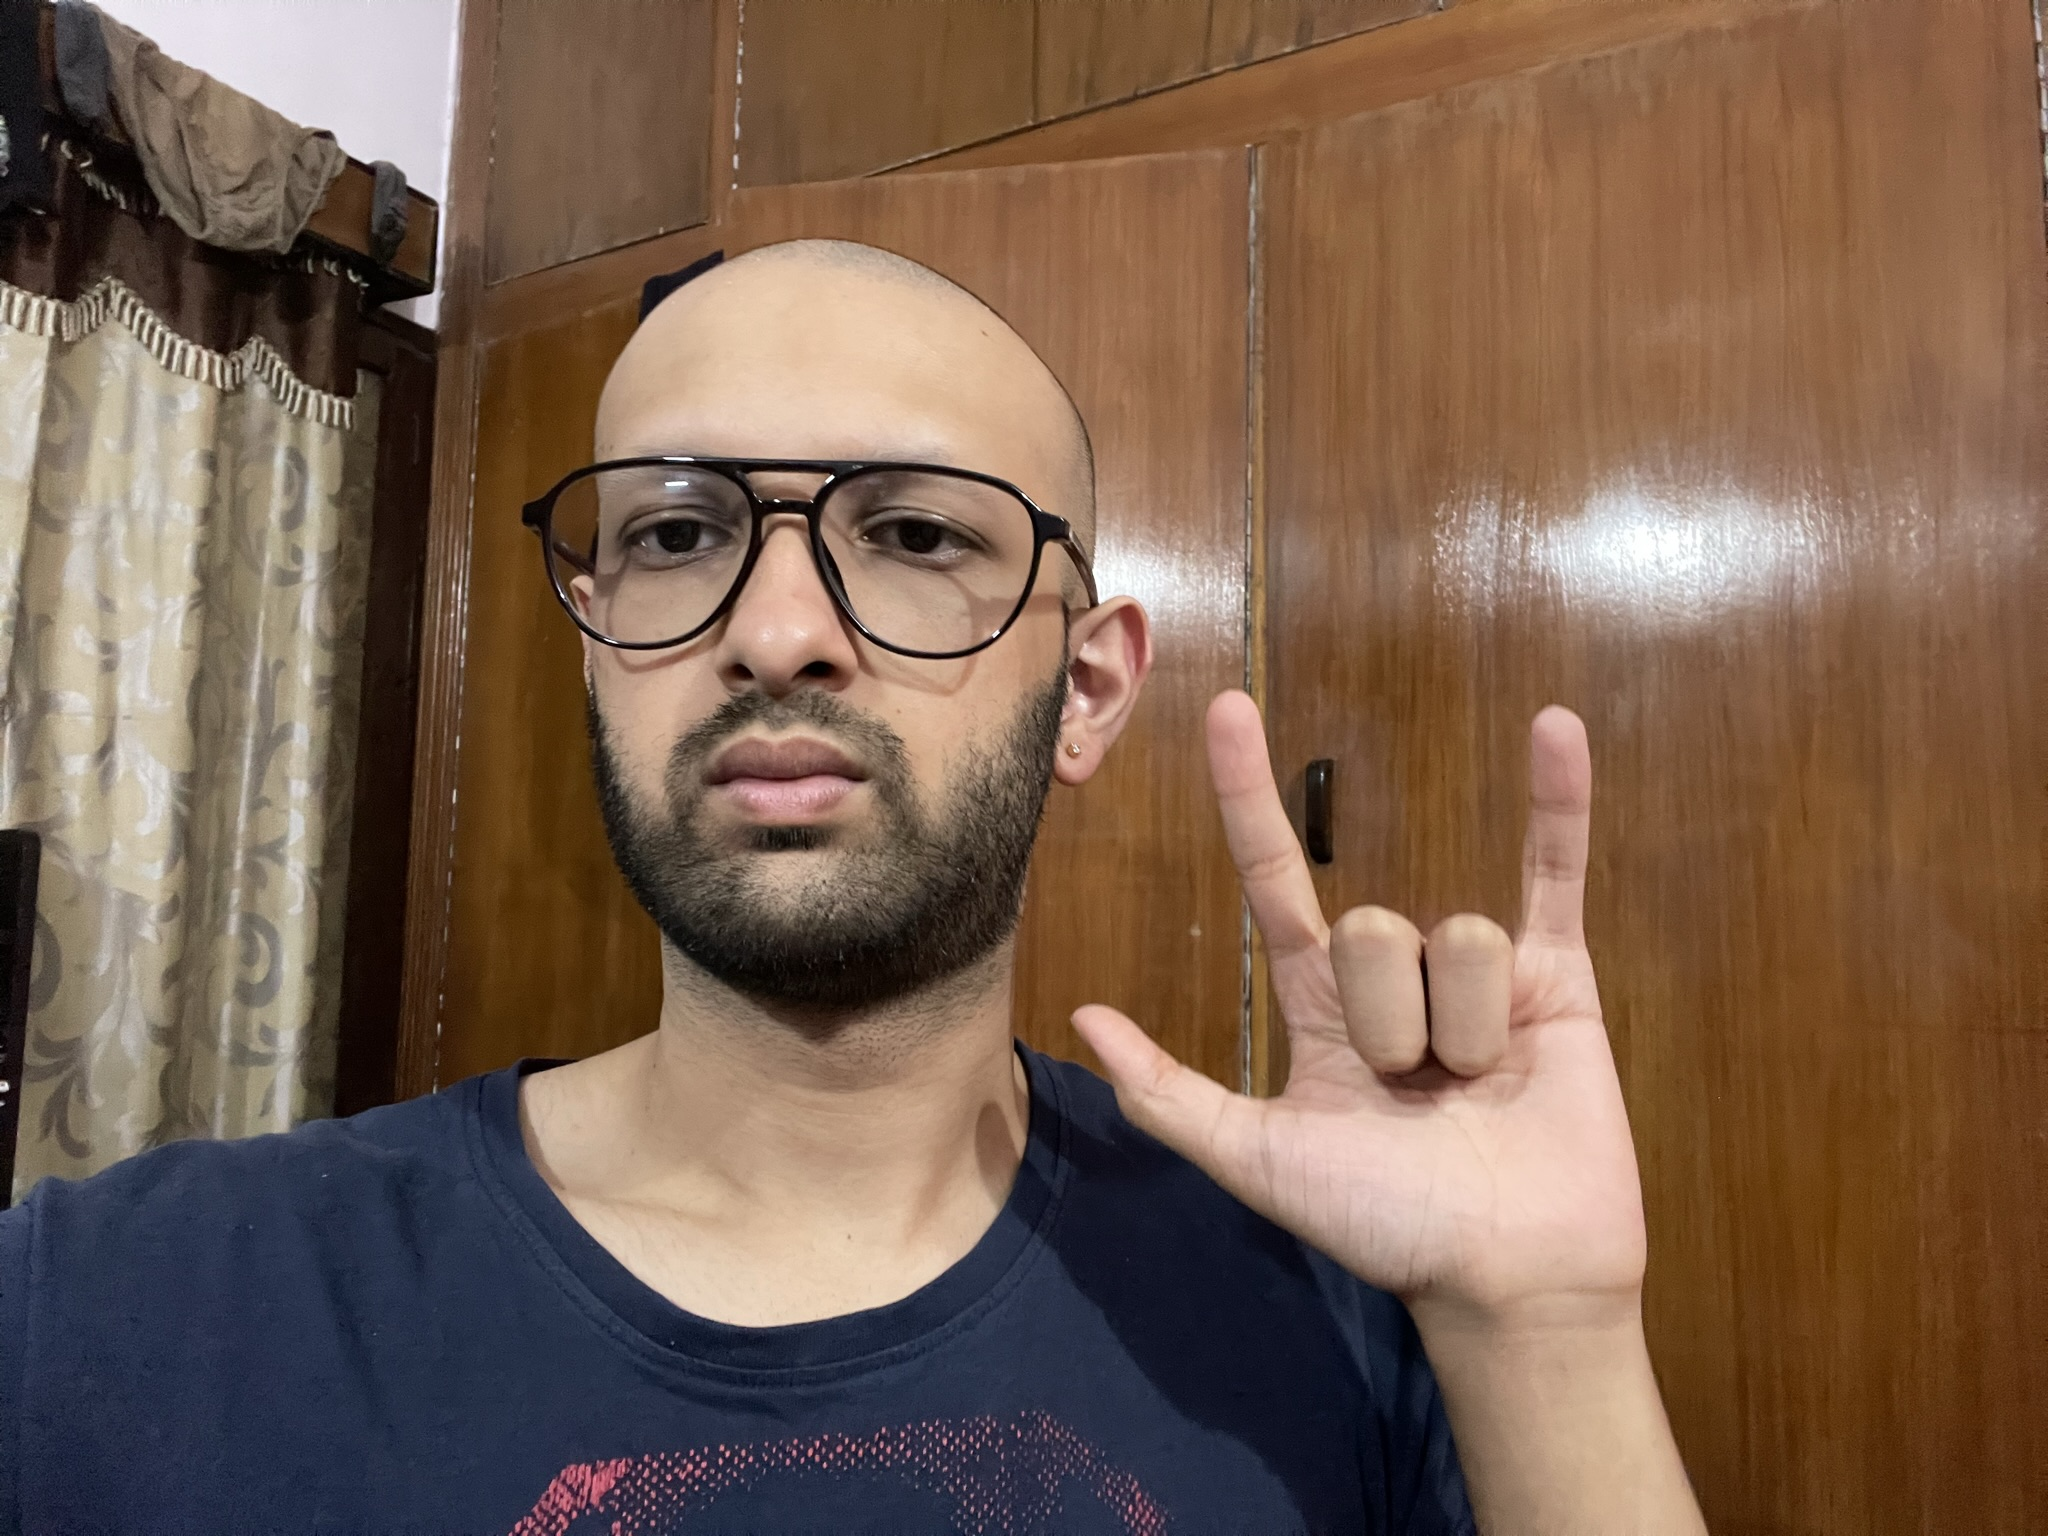I Love You: (1064, 682, 1645, 1329)
